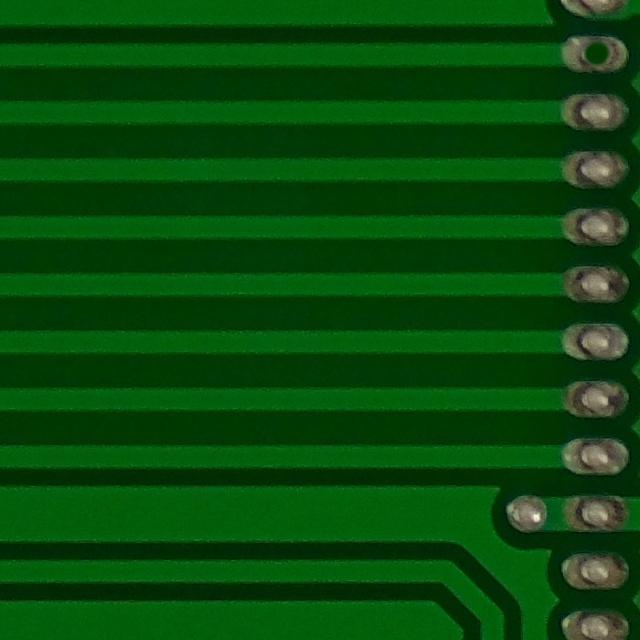missing_hole: (563, 27, 634, 83)
